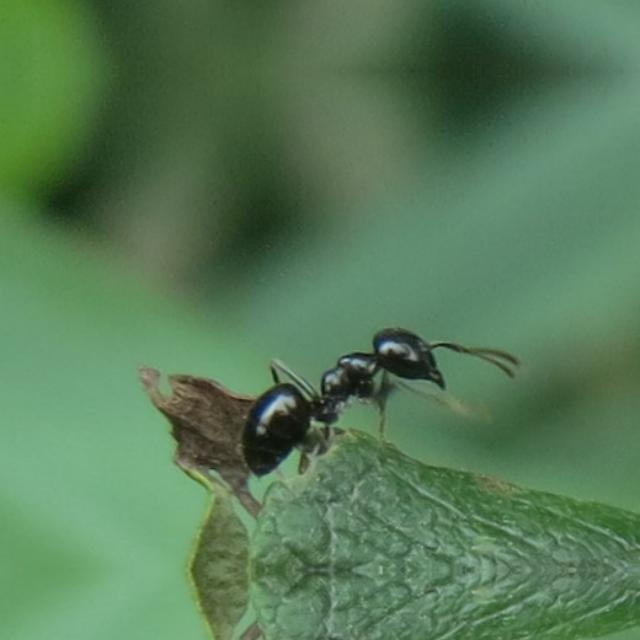Lasius: (193, 288, 539, 500)
